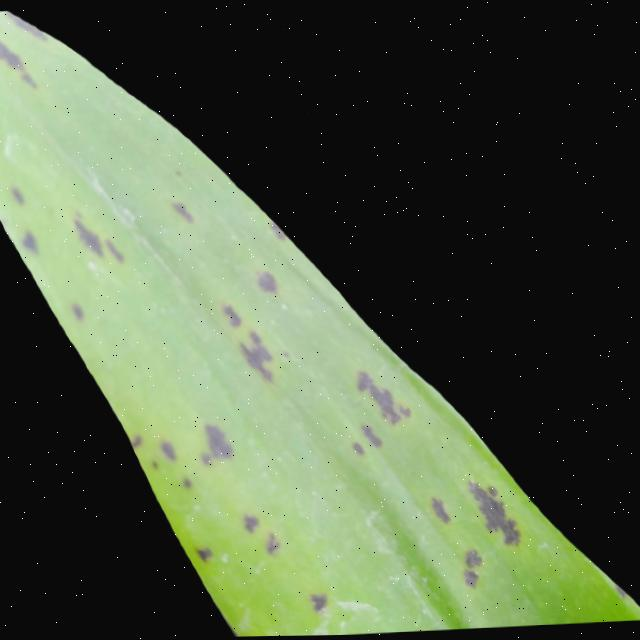mite: (124, 253, 531, 638), (425, 475, 525, 593), (70, 209, 105, 260), (358, 421, 383, 450), (219, 300, 243, 330), (18, 227, 40, 256), (255, 269, 278, 296), (157, 436, 177, 462), (262, 530, 281, 556), (462, 547, 483, 570), (240, 511, 260, 535), (461, 567, 480, 591), (193, 543, 214, 564), (68, 299, 86, 323), (8, 183, 26, 206), (349, 439, 366, 459)
sunburn: (463, 476, 524, 554)
